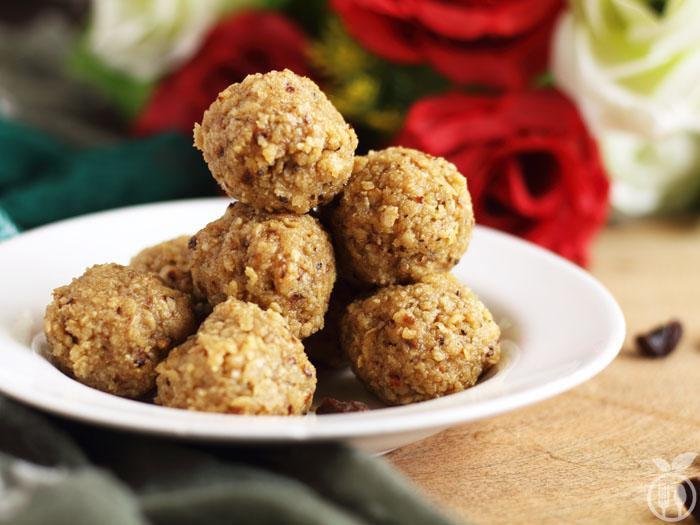momos-samosa-chapati: (194, 70, 357, 214)
